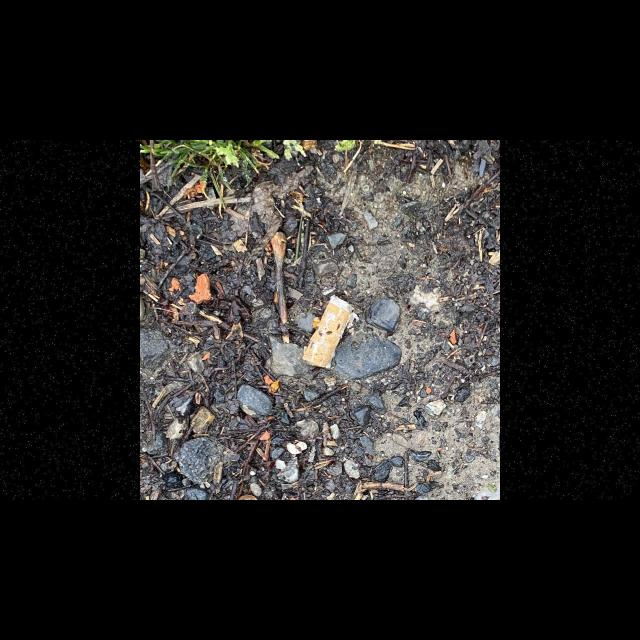cigarette: (302, 294, 359, 370)
